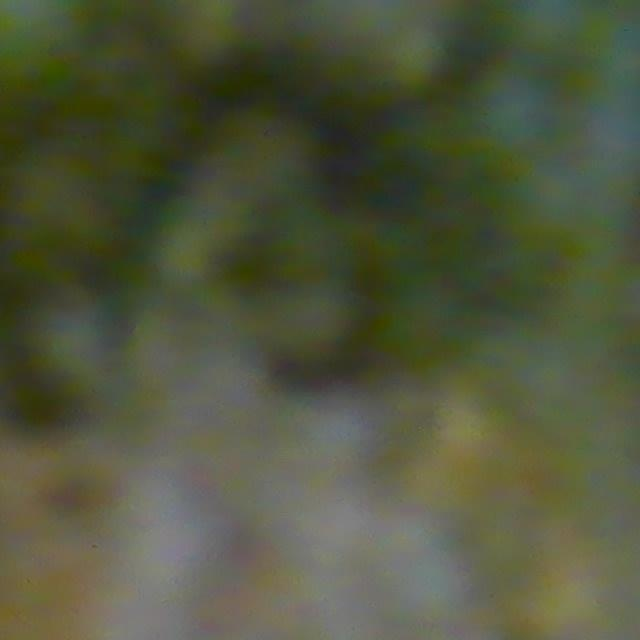SeaGrape: (469, 62, 561, 154), (373, 527, 452, 627)
